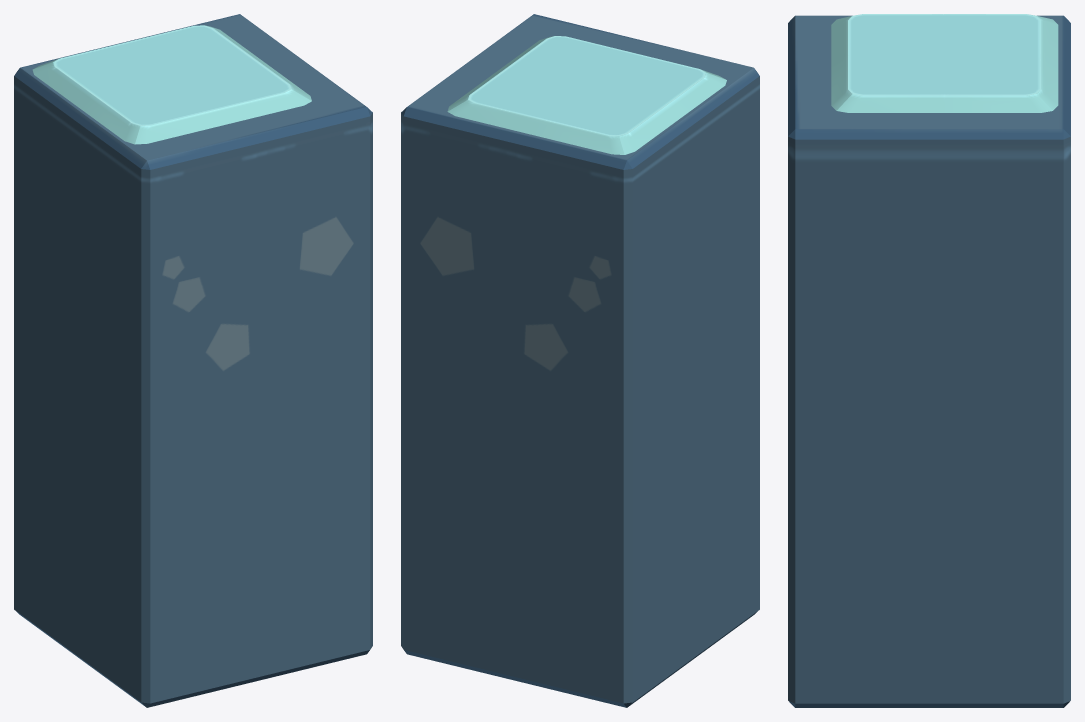
File: S2_InF_BlockCorner_001.fbx
3 renders of one model, left to right at view 1: azimuth 30°, elevation 25°; view 2: azimuth 150°, elevation 25°; view 3: azimuth 270°, elevation 25°, orthographic. The views are drawn at different scales.
Visible parts, largest first — view 1: S2_InF_BlockCorner_S; view 2: S2_InF_BlockCorner_S; view 3: S2_InF_BlockCorner_S.
Part boxes in pixels (<box>): S2_InF_BlockCorner_S: <box>14,14,372,707</box>; S2_InF_BlockCorner_S: <box>401,14,759,707</box>; S2_InF_BlockCorner_S: <box>788,14,1070,707</box>.
Bounding box in the file's own units: 0.8889 × 2.04 × 0.8889.
